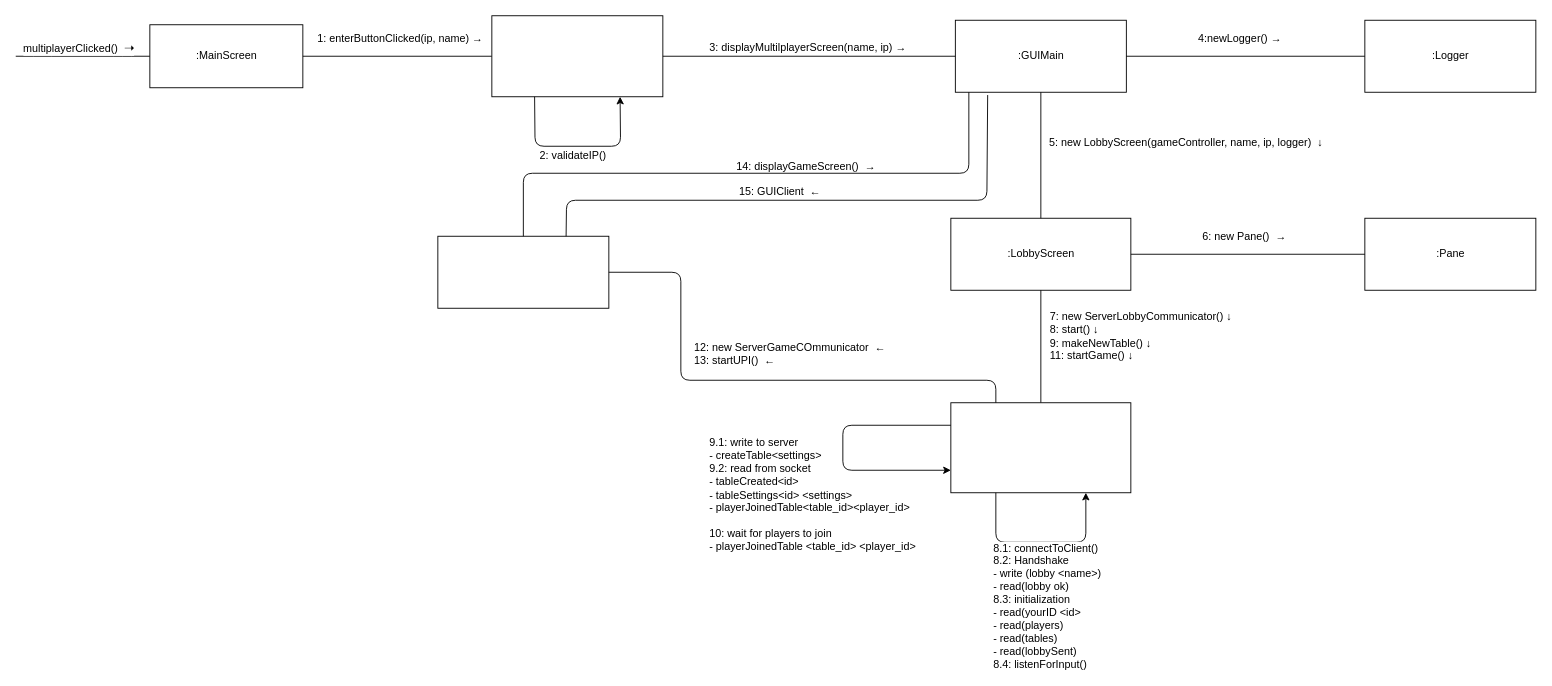
The diagram is 1552 pixels wide and 686 high, and some of its shapes have lost their labels. Each missing label, with the box of its shape:
:GameController: (491, 15, 663, 97)
:ServerGameCommunicator: (437, 235, 609, 308)
:ServerLobbyCommunicator: (950, 402, 1131, 493)
